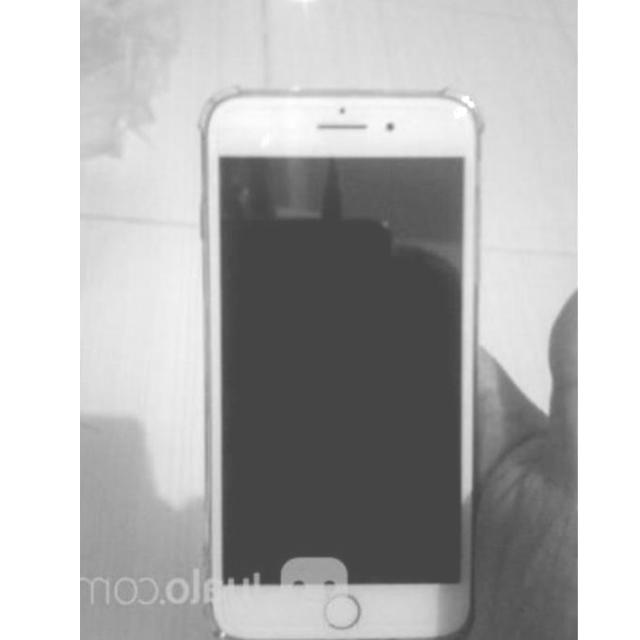fake: (182, 85, 490, 640)
